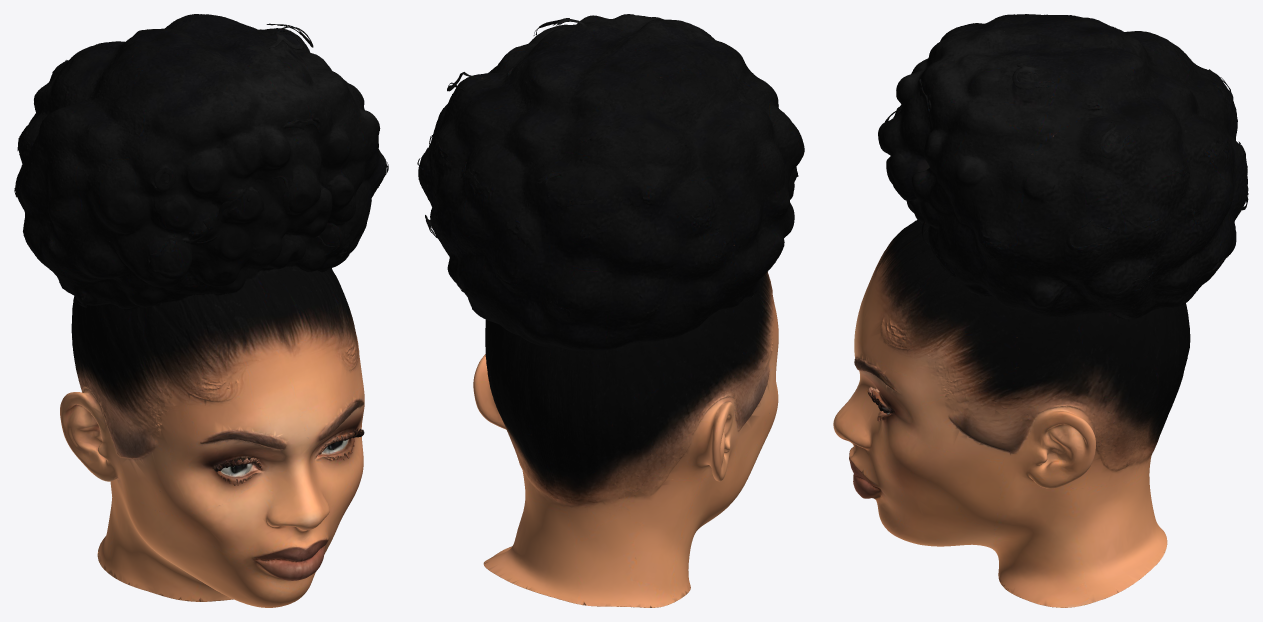
Rendered from Aniyah.glb.
3 views of the same model, side by side, from view 1: azimuth 30°, elevation 25°; view 2: azimuth 150°, elevation 25°; view 3: azimuth 270°, elevation 25° (orthographic).
Bounding box in the file's own units: 1.22 × 1.9 × 1.35.
Materials: 1 (1 with a texture image).
